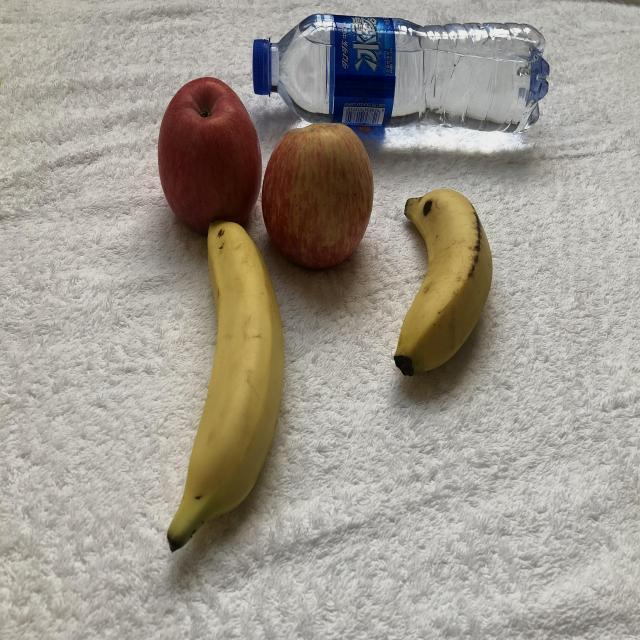Apple: (260, 106, 382, 280), (152, 67, 266, 246)
Banana: (158, 214, 292, 558), (391, 177, 496, 385)
